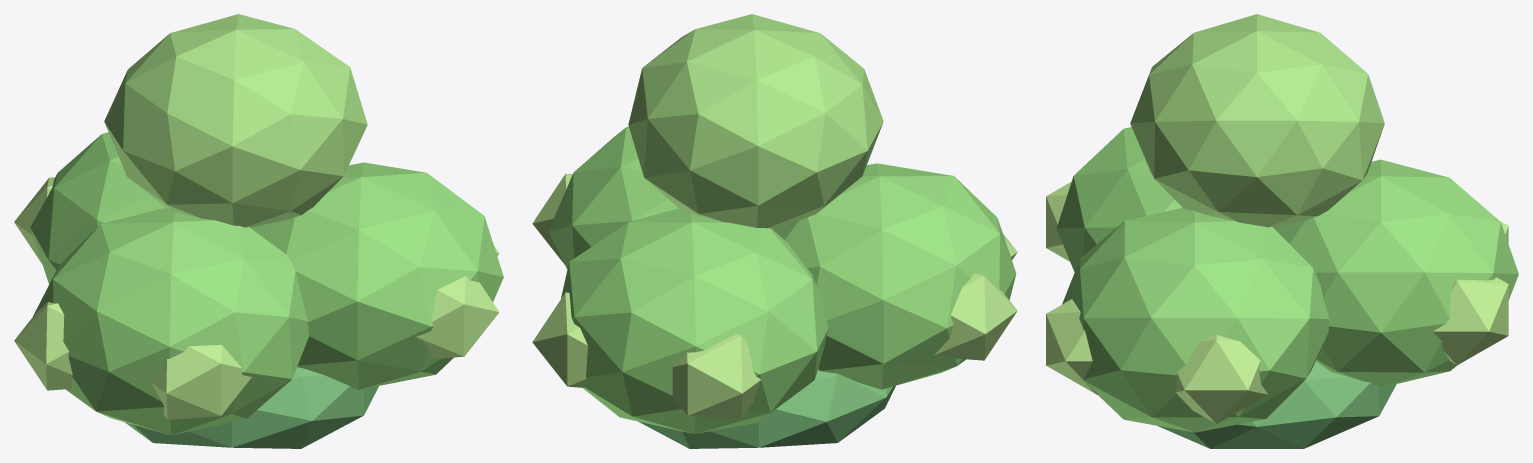
The model's file is OakleafLeaves.glb.
The picture shows the model from 3 angles, left to right: view 1: azimuth 30°, elevation 25°; view 2: azimuth 150°, elevation 25°; view 3: azimuth 270°, elevation 25°; orthographic projection.
Parts seen in each view (by area): view 1: OakleafLeaves_OakLobes, OakleafLeaves_OakCrown, OakleafLeaves_OakScallops, OakleafLeaves_OakBase; view 2: OakleafLeaves_OakLobes, OakleafLeaves_OakCrown, OakleafLeaves_OakScallops, OakleafLeaves_OakBase; view 3: OakleafLeaves_OakLobes, OakleafLeaves_OakCrown, OakleafLeaves_OakScallops, OakleafLeaves_OakBase.
Part boxes in pixels (box(x1,y1,x2,y2)): OakleafLeaves_OakLobes: box(30, 132, 503, 435); OakleafLeaves_OakCrown: box(104, 14, 367, 227); OakleafLeaves_OakScallops: box(14, 177, 499, 419); OakleafLeaves_OakBase: box(125, 367, 378, 448); OakleafLeaves_OakLobes: box(548, 126, 1016, 433); OakleafLeaves_OakCrown: box(628, 14, 883, 228); OakleafLeaves_OakScallops: box(532, 173, 1017, 419); OakleafLeaves_OakBase: box(639, 370, 895, 448); OakleafLeaves_OakLobes: box(1056, 127, 1518, 432); OakleafLeaves_OakCrown: box(1130, 14, 1384, 227); OakleafLeaves_OakScallops: box(1046, 182, 1508, 423); OakleafLeaves_OakBase: box(1158, 361, 1396, 448).
Bounding box in the file's own units: 3.43 × 2.72 × 3.13.
